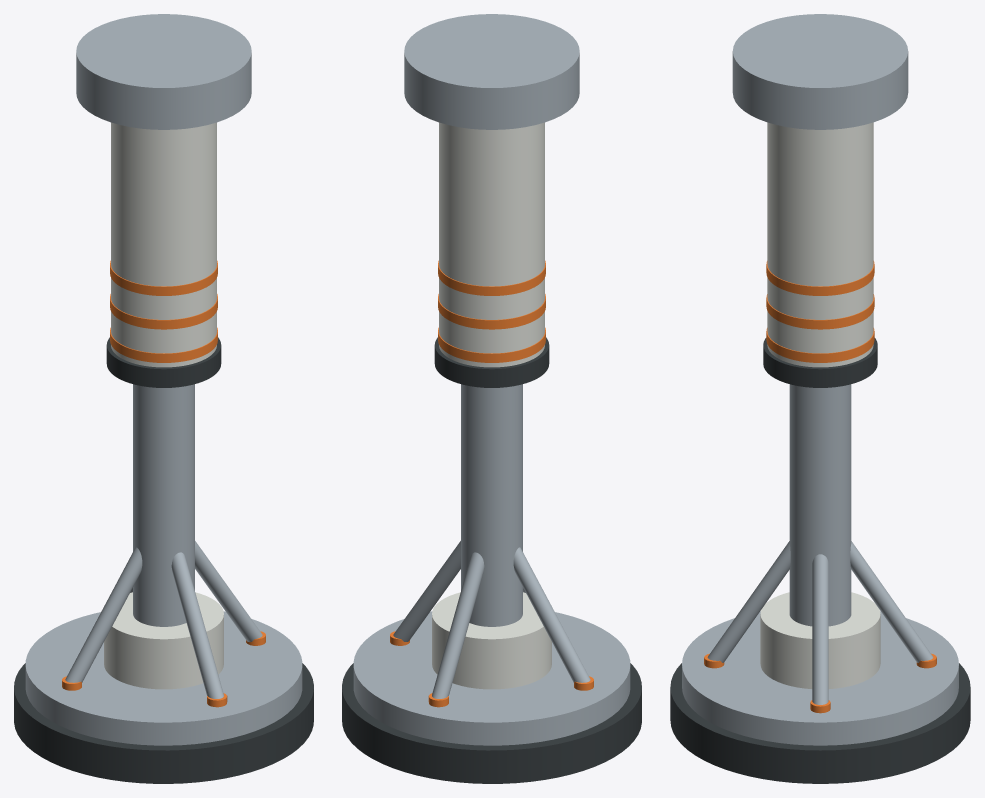
The model's file is landingLeg.glb.
The picture shows the model from 3 angles, left to right: view 1: azimuth 30°, elevation 25°; view 2: azimuth 150°, elevation 25°; view 3: azimuth 270°, elevation 25°; orthographic projection.
Parts seen in each view (by area): view 1: Hydraulic shock sleeve, Pad structural dish, Upper mount flange, Exposed shock piston, Wide tread pad, Foot articulation cover, Lower sleeve seal, Pad stabilizer brace.003, Pad stabilizer brace.002, Pad stabilizer brace, Piston travel stripe.001, Piston travel stripe (+1 smaller); view 2: Hydraulic shock sleeve, Pad structural dish, Upper mount flange, Exposed shock piston, Wide tread pad, Foot articulation cover, Lower sleeve seal, Pad stabilizer brace.001, Pad stabilizer brace.002, Pad stabilizer brace, Piston travel stripe.001, Piston travel stripe (+1 smaller); view 3: Hydraulic shock sleeve, Pad structural dish, Upper mount flange, Exposed shock piston, Wide tread pad, Foot articulation cover, Lower sleeve seal, Pad stabilizer brace, Pad stabilizer brace.001, Pad stabilizer brace.003, Piston travel stripe.001, Piston travel stripe.002 (+1 smaller).
Part boxes in pixels (x1,y1,x2,y2): Hydraulic shock sleeve: [111, 122, 216, 367]; Pad structural dish: [25, 611, 302, 745]; Upper mount flange: [76, 14, 251, 129]; Exposed shock piston: [133, 384, 194, 626]; Wide tread pad: [14, 663, 313, 783]; Foot articulation cover: [104, 592, 223, 689]; Lower sleeve seal: [106, 337, 221, 387]; Pad stabilizer brace.003: [171, 552, 223, 698]; Pad stabilizer brace.002: [65, 547, 142, 682]; Pad stabilizer brace: [195, 541, 262, 641]; Piston travel stripe.001: [110, 294, 217, 329]; Piston travel stripe: [110, 327, 217, 362]; Hydraulic shock sleeve: [439, 122, 544, 367]; Pad structural dish: [353, 611, 630, 745]; Upper mount flange: [404, 14, 579, 129]; Exposed shock piston: [461, 384, 522, 626]; Wide tread pad: [342, 663, 641, 783]; Foot articulation cover: [432, 592, 551, 689]; Lower sleeve seal: [434, 337, 549, 387]; Pad stabilizer brace.001: [432, 552, 484, 698]; Pad stabilizer brace.002: [513, 547, 590, 682]; Pad stabilizer brace: [393, 541, 460, 641]; Piston travel stripe.001: [438, 294, 545, 329]; Piston travel stripe: [438, 327, 545, 362]; Hydraulic shock sleeve: [767, 122, 873, 367]; Pad structural dish: [682, 611, 958, 745]; Upper mount flange: [732, 14, 908, 129]; Exposed shock piston: [789, 384, 851, 626]; Wide tread pad: [670, 663, 970, 783]; Foot articulation cover: [760, 592, 880, 688]; Lower sleeve seal: [763, 338, 877, 387]; Pad stabilizer brace: [812, 554, 828, 704]; Pad stabilizer brace.001: [850, 541, 933, 662]; Pad stabilizer brace.003: [707, 541, 790, 662]; Piston travel stripe.001: [766, 294, 874, 329]; Piston travel stripe.002: [766, 261, 874, 295].
Bounding box in the file's own units: 0.65 × 1.6 × 0.65.
